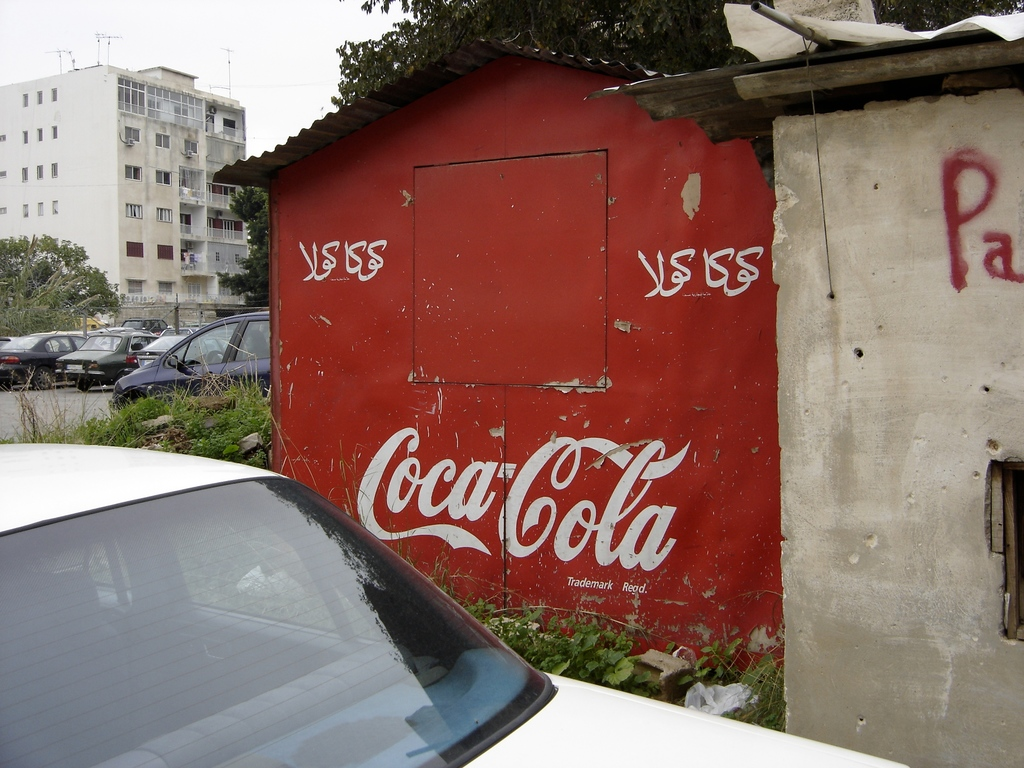Tree: (319, 0, 1024, 161), (0, 232, 124, 337), (215, 183, 268, 312)
